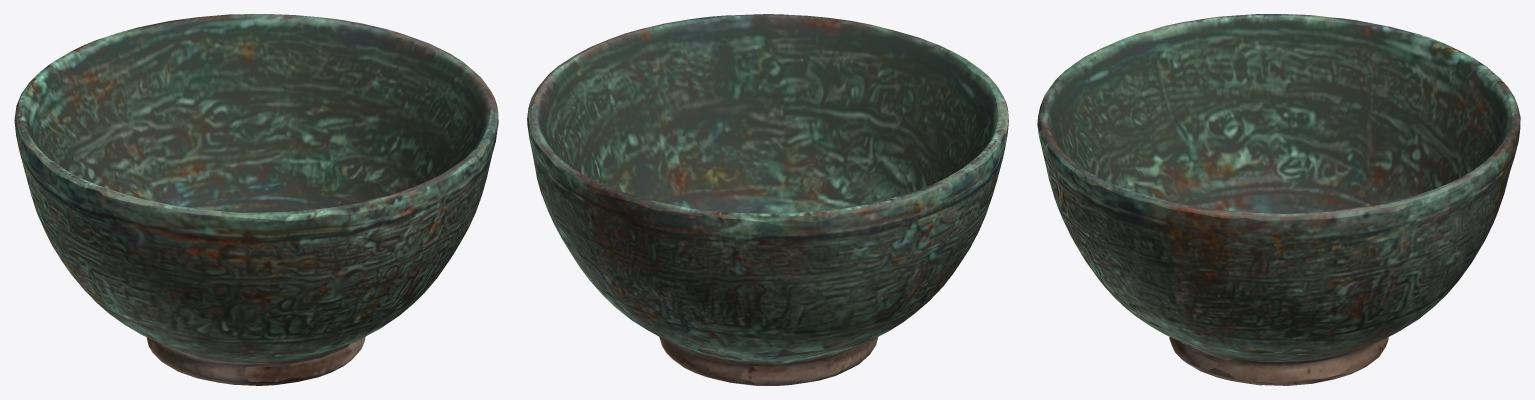
File: variant_0.glb
3 renders of one model, left to right at view 1: azimuth 30°, elevation 25°; view 2: azimuth 150°, elevation 25°; view 3: azimuth 270°, elevation 25°, orthographic.
Visible parts, largest first — view 1: geometry_0; view 2: geometry_0; view 3: geometry_0.
Part boxes in pixels (bbox=[...]): geometry_0: bbox=[14, 14, 498, 385]; geometry_0: bbox=[527, 14, 1008, 385]; geometry_0: bbox=[1037, 14, 1520, 385].
Bounding box in the file's own units: 0.15 × 0.0793 × 0.1499.
1 material, 1 textured.
